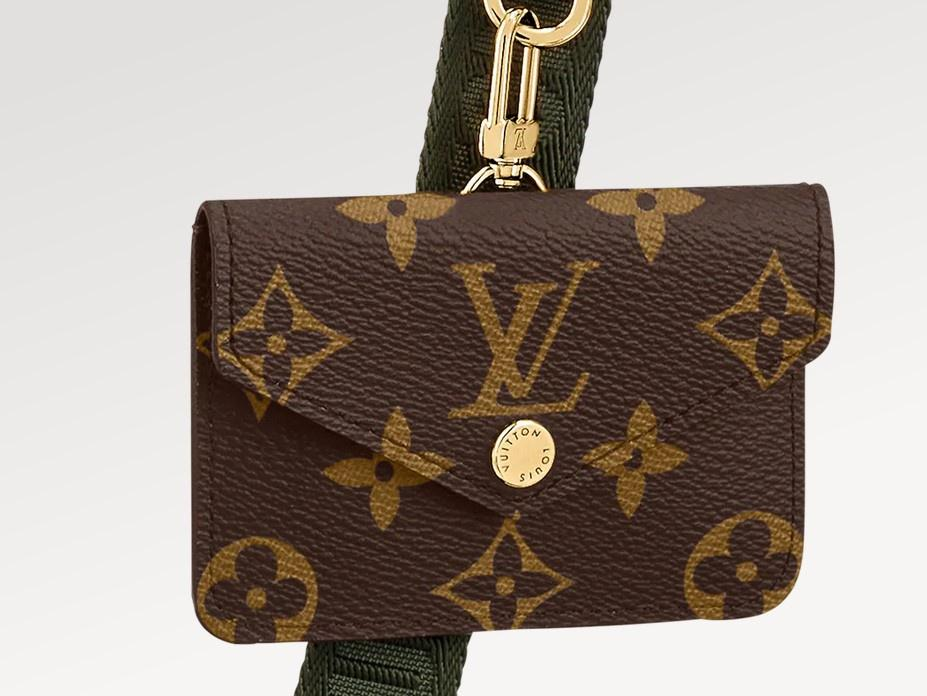LOUIS-VUITTON: (197, 189, 812, 621)
